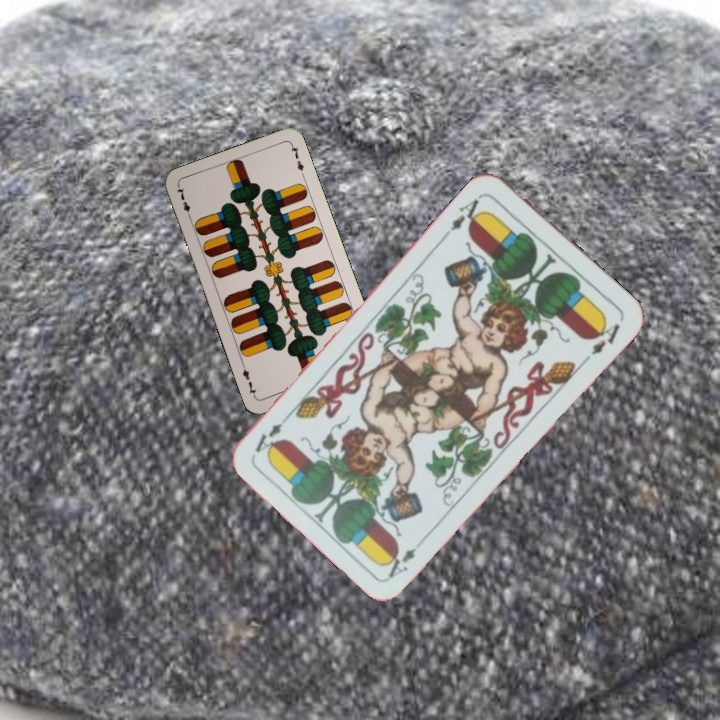E7: (173, 183, 194, 222)
EA: (380, 534, 429, 581), (446, 191, 488, 234)
